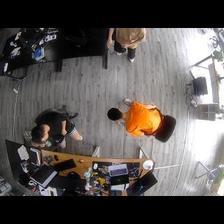normal: (107, 96, 164, 140), (30, 105, 86, 147)
